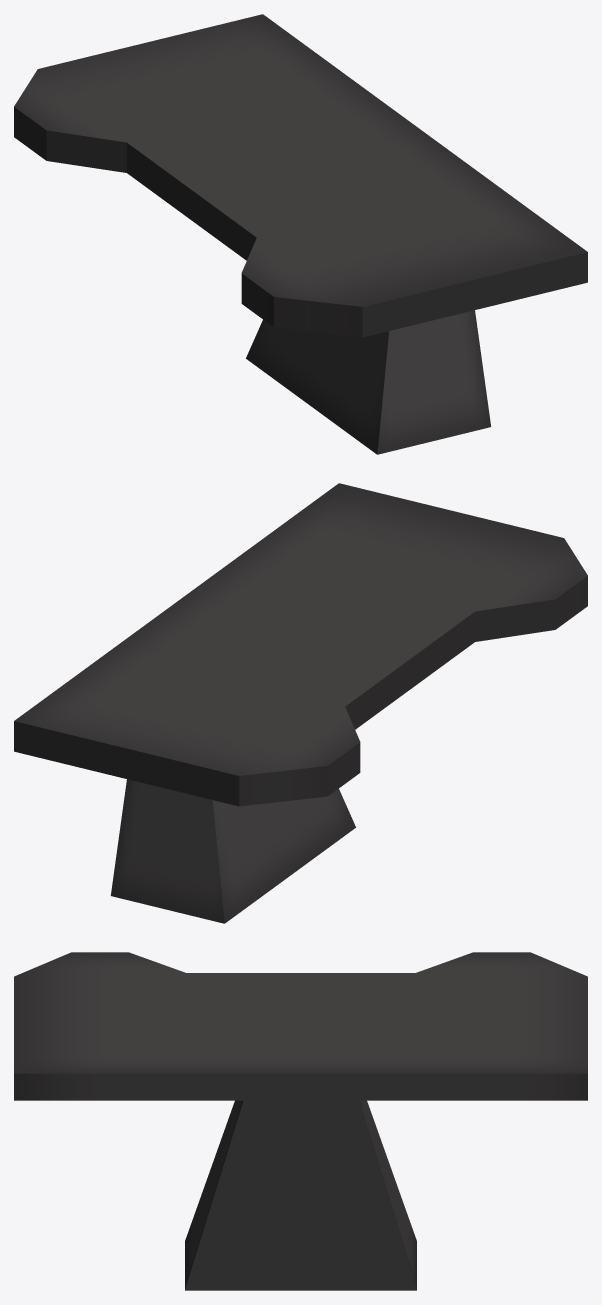
File: SM_Tri_Table.fbx
3 renders of one model, top to bottom at view 1: azimuth 30°, elevation 25°; view 2: azimuth 150°, elevation 25°; view 3: azimuth 270°, elevation 25°, orthographic. The views are drawn at different scales.
Parts seen in each view (by area): view 1: Tri_Table; view 2: Tri_Table; view 3: Tri_Table.
Boxes of the visible parts, x1,y1,x2,y2 form: Tri_Table: (14, 14, 587, 454); Tri_Table: (14, 483, 587, 923); Tri_Table: (14, 952, 587, 1290).
Bounding box in the file's own units: 1.22 × 1.02 × 2.43.
Materials: 1 (1 with a texture image).
